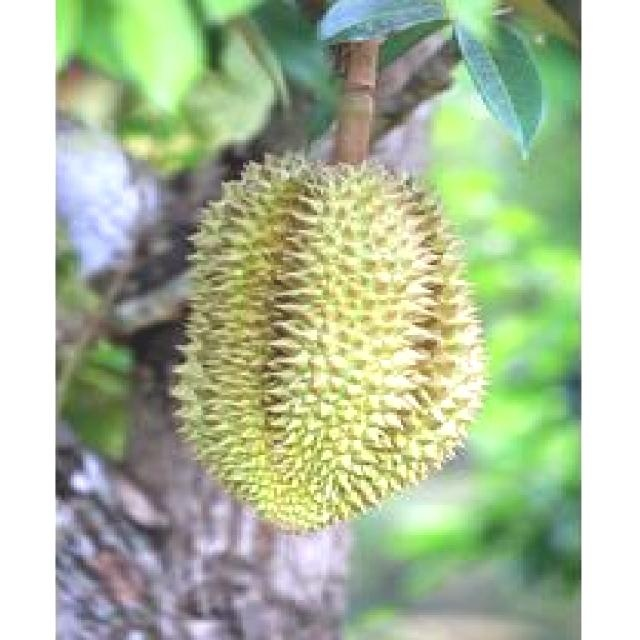agrume: (120, 125, 504, 553)
